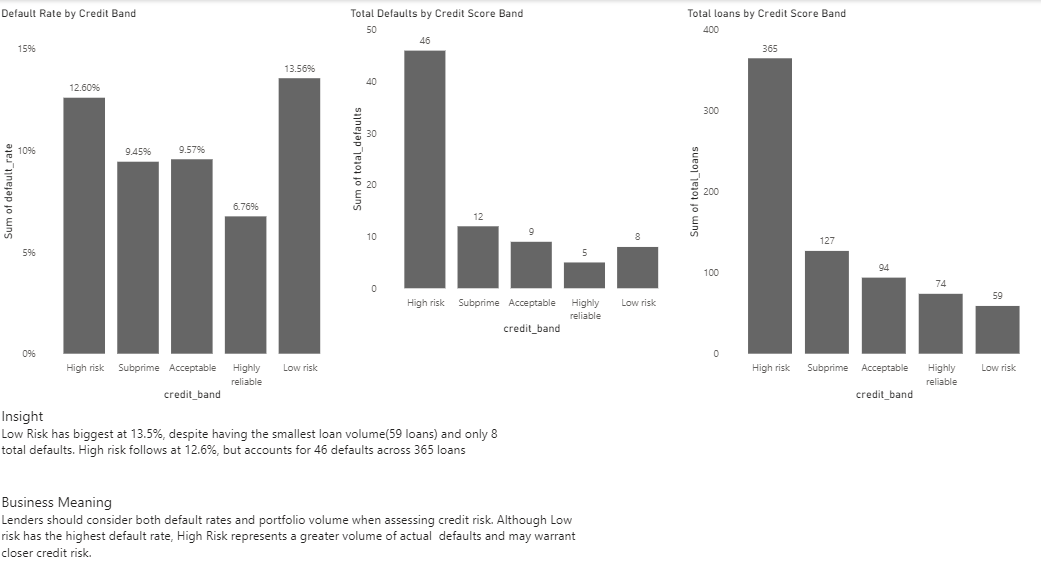

Layout of this report page (visuals, bound fields, positions):
{"tool":"powerbi","page":{"name":"Page 1","canvas":[1600,900],"ordinal":0},"visuals":[{"type":"clusteredColumnChart","title":"Default Rate by Credit Band","fields":{"Y":["Sum(Query1.default_rate)"],"Category":["Query1.credit_band"]},"box":[0,0,531.6,603.9],"z":0},{"type":"clusteredColumnChart","title":"Total Defaults by Credit Score Band","fields":{"Category":["Query1.credit_band"],"Y":["Sum(Query1.total_defaults)"]},"box":[531.6,0,514.4,504.1],"z":1000},{"type":"clusteredColumnChart","title":"Total loans by Credit Score Band","fields":{"Category":["Query1.credit_band"],"Y":["Sum(Query1.total_loans)"]},"box":[1046,0,554,603.9],"z":2000},{"type":"textbox","box":[0,614.2,789.7,87.7],"z":2001},{"type":"textbox","box":[0,746.7,911.8,122.2],"z":2002}]}

Visuals, with their boxes in screenshot pixels (x1, y1, x2, y2), scaled from the page's 1600x900 canvas onto the 1041x585 screenshot:
"Default Rate by Credit Band" clusteredColumnChart: [0,0,346,393]
"Total Defaults by Credit Score Band" clusteredColumnChart: [346,0,681,328]
"Total loans by Credit Score Band" clusteredColumnChart: [681,0,1040,393]
textbox: [0,399,514,456]
textbox: [0,485,593,565]
